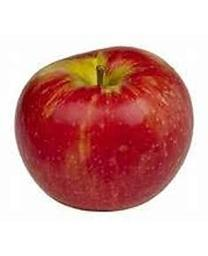apple: (15, 47, 194, 210)
